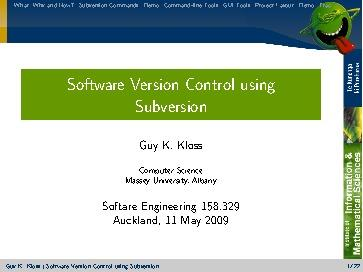subtitle: (99, 131, 255, 233)
title: (62, 70, 291, 122)
